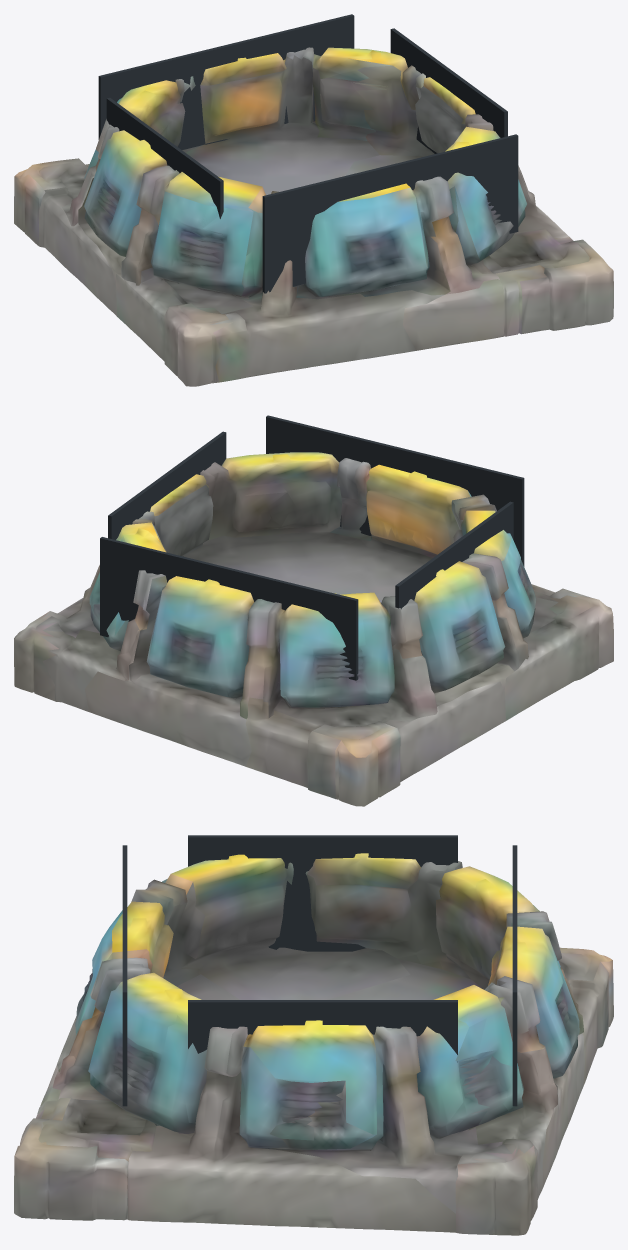
Rendered from crater.glb.
3 views of the same model, one above another, from view 1: azimuth 30°, elevation 25°; view 2: azimuth 150°, elevation 25°; view 3: azimuth 270°, elevation 25° (orthographic). The views are drawn at different scales.
Parts seen in each view (by area): view 1: SM_Body, SM_LOD, SM_Rim_Front_Backing, SM_Rim_Back_Backing, SM_Rim_Left, SM_Rim_Right_Backing, SM_Rim_Left_Backing, SM_Rim_Right; view 2: SM_Body, SM_LOD, SM_Rim_Back_Backing, SM_Rim_Front_Backing, SM_Rim_Right_Backing, SM_Rim_Left_Backing; view 3: SM_LOD, SM_Body, SM_Rim_Left_Backing, SM_Rim_Right_Backing, SM_Rim_Back_Backing, SM_Rim_Front_Backing, SM_Rim_Left.
Part boxes in pixels (x1,y1,x2,y2): SM_Body: [14, 64, 613, 386]; SM_LOD: [82, 47, 530, 296]; SM_Rim_Front_Backing: [262, 134, 518, 293]; SM_Rim_Back_Backing: [98, 14, 354, 149]; SM_Rim_Left: [81, 105, 226, 272]; SM_Rim_Right_Backing: [390, 28, 507, 153]; SM_Rim_Left_Backing: [106, 97, 223, 218]; SM_Rim_Right: [353, 50, 529, 200]; SM_Body: [14, 464, 613, 806]; SM_LOD: [87, 452, 536, 705]; SM_Rim_Back_Backing: [100, 537, 358, 680]; SM_Rim_Front_Backing: [266, 415, 524, 566]; SM_Rim_Right_Backing: [108, 431, 226, 556]; SM_Rim_Left_Backing: [395, 501, 513, 609]; SM_LOD: [69, 853, 579, 1142]; SM_Body: [14, 862, 613, 1235]; SM_Rim_Left_Backing: [188, 835, 457, 951]; SM_Rim_Right_Backing: [188, 1000, 457, 1062]; SM_Rim_Back_Backing: [512, 845, 517, 1106]; SM_Rim_Front_Backing: [122, 845, 127, 1106]; SM_Rim_Left: [225, 854, 445, 954].
Bounding box in the file's own units: 0.9644 × 0.36 × 1.
Materials: 3 (2 with a texture image).
